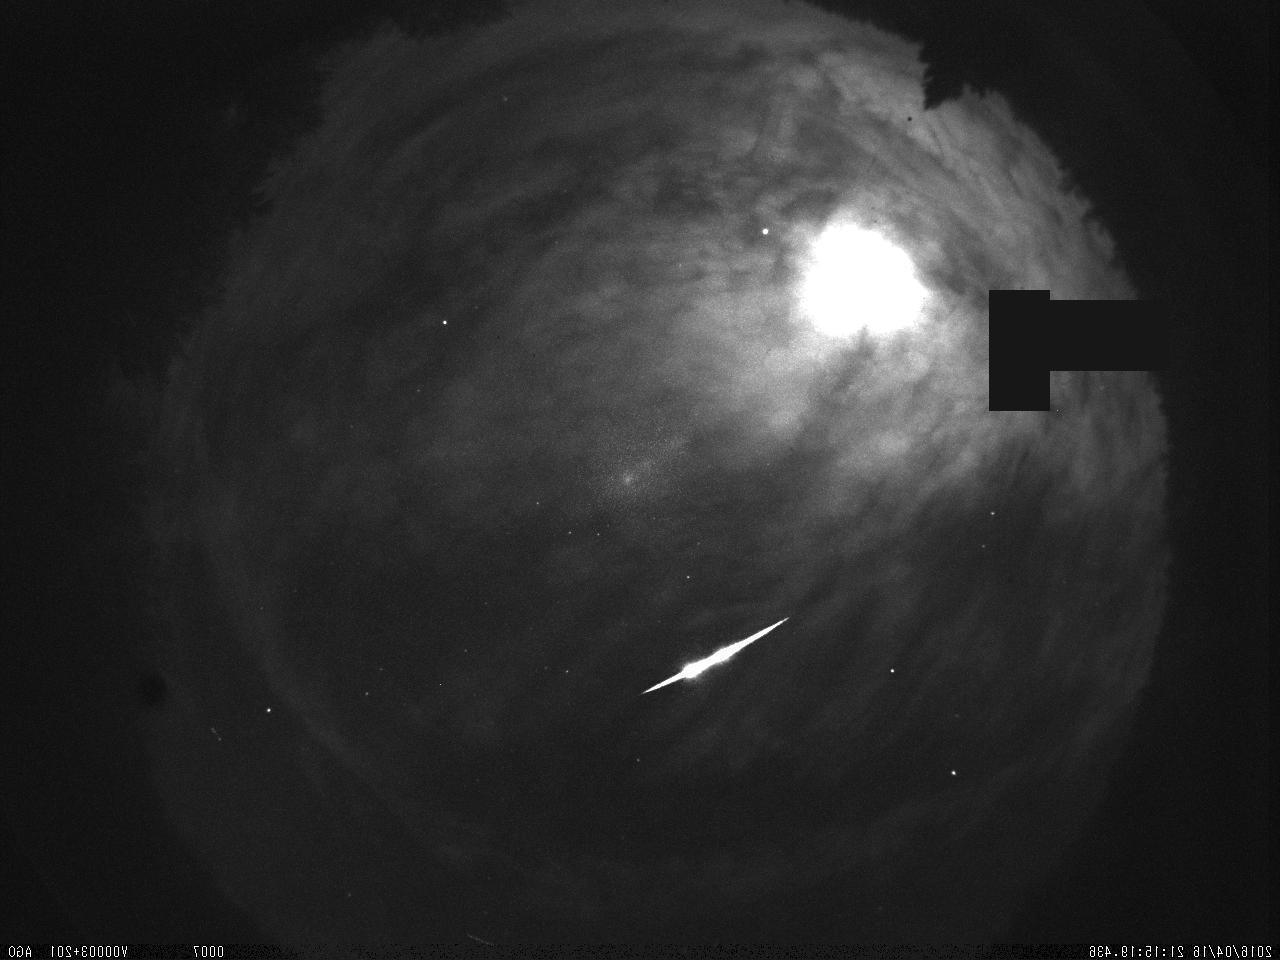meteor: (626, 608, 793, 697)
